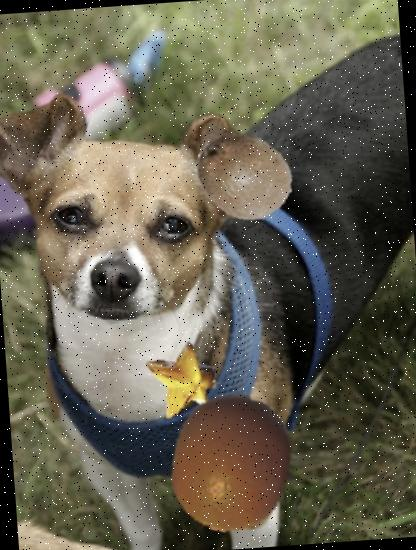Carambula: (142, 338, 227, 422)
Grapefruit: (159, 389, 308, 537)
Kiwi: (190, 122, 298, 230)
